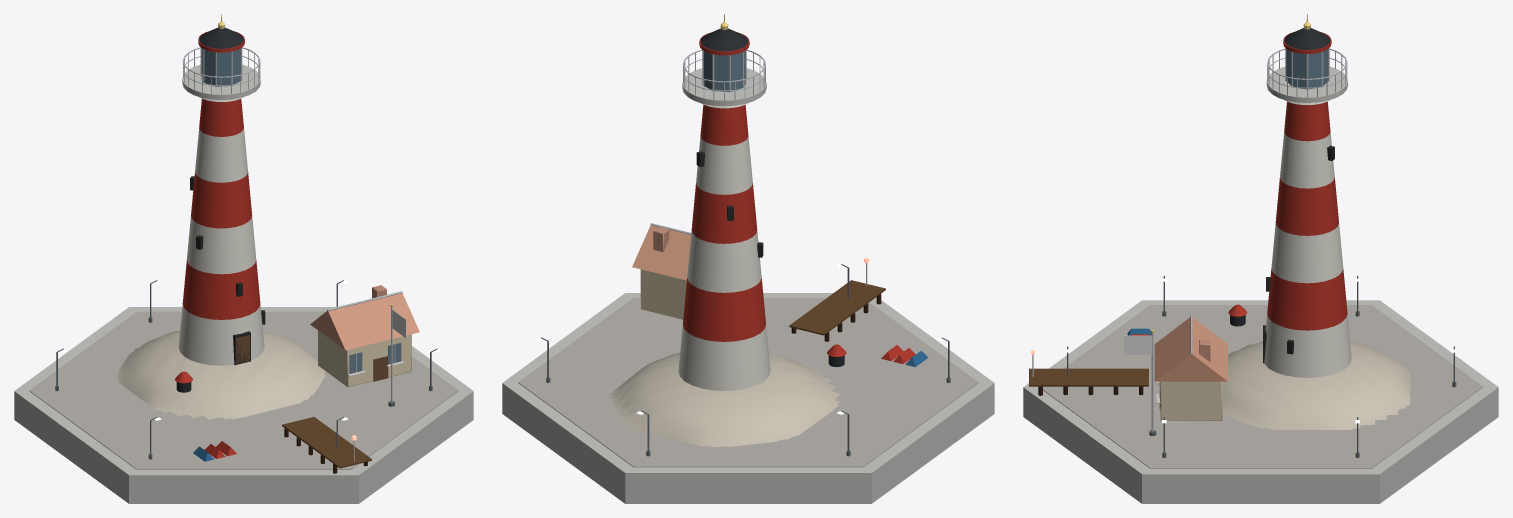
File: lighthouse.glb
The picture shows the model from 3 angles, left to right: view 1: azimuth 30°, elevation 25°; view 2: azimuth 150°, elevation 25°; view 3: azimuth 270°, elevation 25°; orthographic projection. The views are drawn at different scales.
Parts seen in each view (by area): view 1: gravel, wall_concrete, paint, stone, roof_tile, wood, plaster, glass, metal, dark, steel_dark; view 2: gravel, wall_concrete, paint, stone, wood, roof_tile, plaster, metal, glass, steel_dark; view 3: gravel, wall_concrete, paint, stone, roof_tile, plaster, wood, metal, glass, banner, steel_dark.
Part boxes in pixels (box(x1,y1,x2,y2)): gravel: box(29, 311, 458, 469); wall_concrete: box(14, 64, 473, 503); paint: box(175, 27, 264, 461); stone: box(116, 330, 404, 419); roof_tile: box(310, 293, 419, 350); wood: box(236, 335, 388, 473); plaster: box(318, 330, 411, 387); glass: box(202, 48, 401, 373); metal: box(182, 47, 402, 461); dark: box(190, 176, 265, 365); steel_dark: box(55, 280, 437, 459); gravel: box(518, 298, 978, 467); wall_concrete: box(502, 68, 994, 503); paint: box(678, 28, 928, 390); stone: box(608, 352, 840, 447); wood: box(789, 280, 885, 341); roof_tile: box(632, 225, 690, 280); plaster: box(640, 269, 686, 319); metal: box(650, 49, 867, 285); glass: box(703, 50, 745, 91); steel_dark: box(541, 264, 950, 456); gravel: box(1043, 305, 1483, 468); wall_concrete: box(1023, 66, 1498, 503); paint: box(1127, 28, 1351, 377); stone: box(1156, 341, 1410, 429); roof_tile: box(1154, 317, 1227, 381); plaster: box(1160, 381, 1222, 420); wood: box(1029, 368, 1160, 408); metal: box(1032, 48, 1347, 431); glass: box(1160, 49, 1328, 401); banner: box(1123, 335, 1152, 354); steel_dark: box(1067, 275, 1456, 457).
Bounding box in the file's own units: 21.3 × 23 × 24.6.
